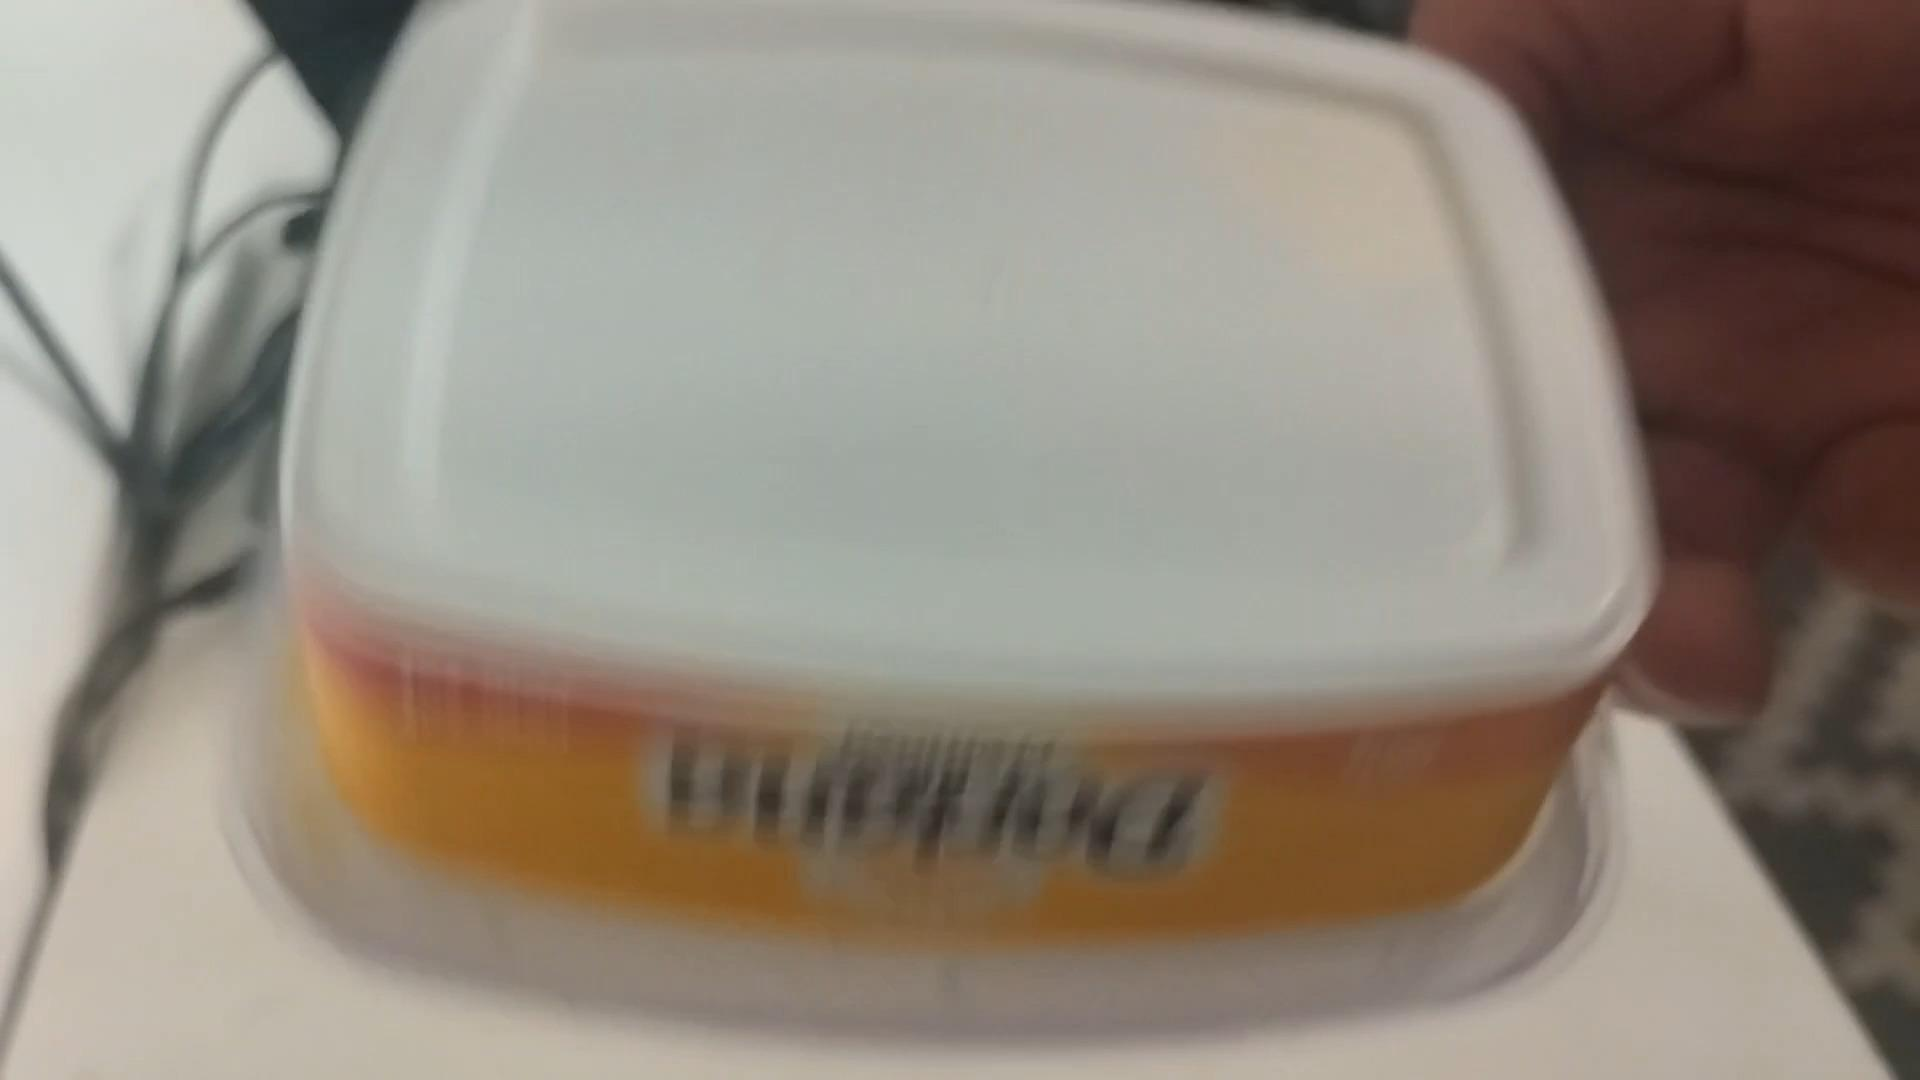butter: (262, 0, 1640, 984)
